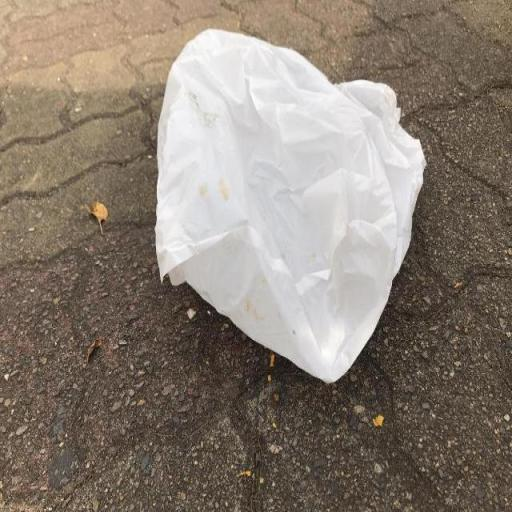plastic-bag: (152, 28, 431, 386)
